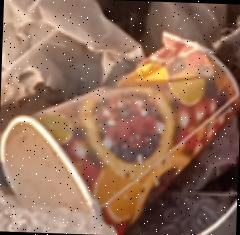paper: (0, 29, 240, 235)
